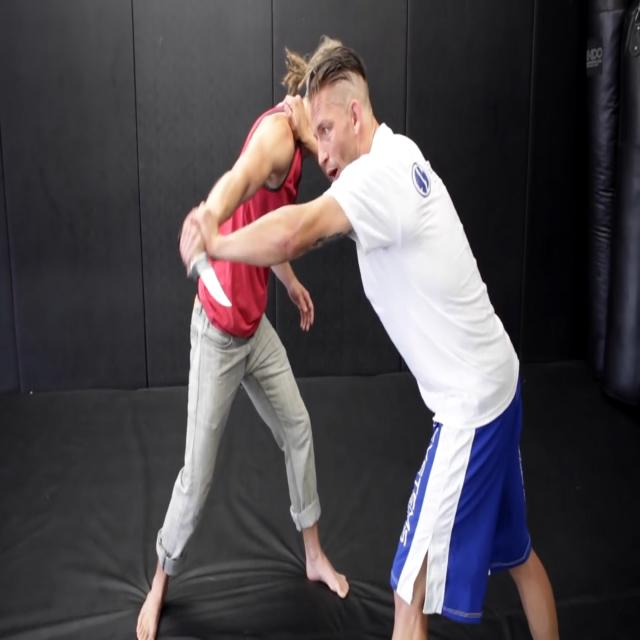knife: (193, 257, 235, 313)
